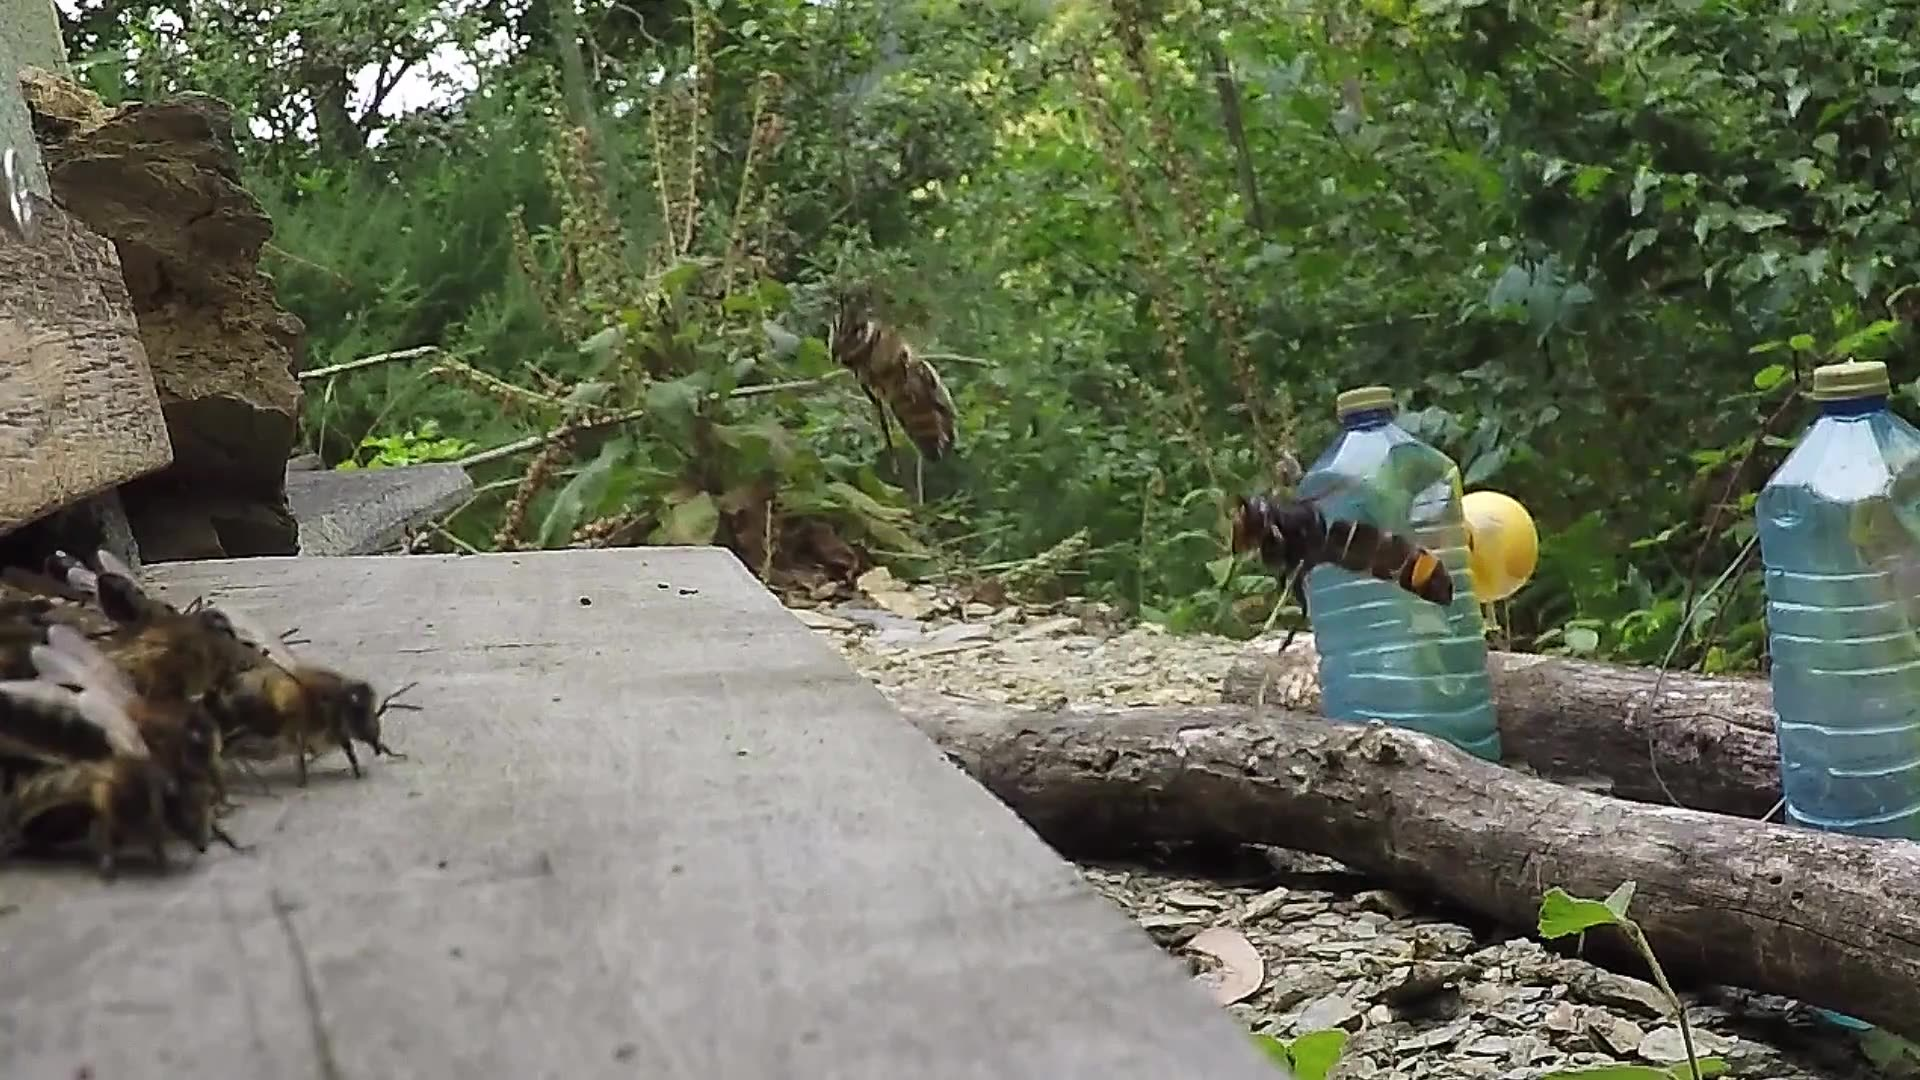bee: (1, 547, 264, 868), (814, 306, 976, 477), (243, 649, 393, 771)
hornet: (1222, 481, 1462, 620)
